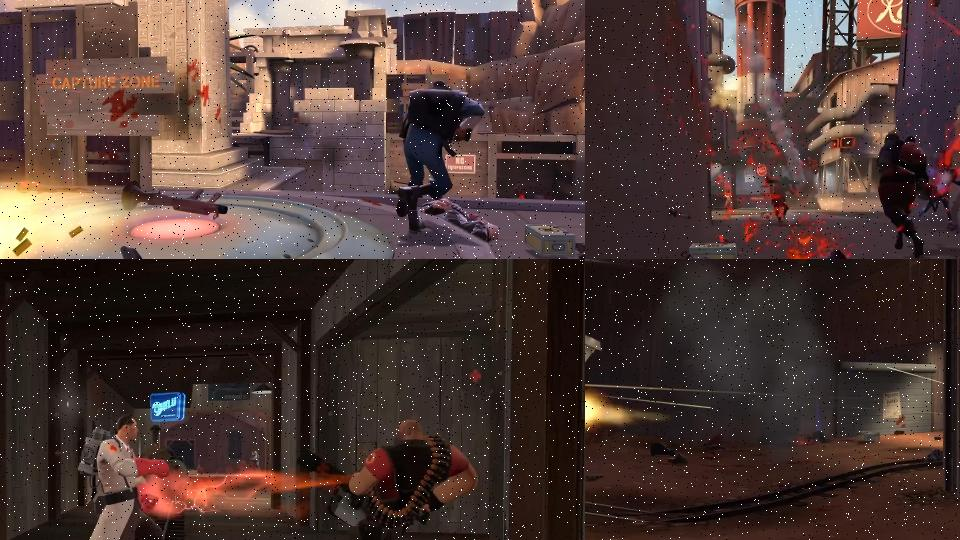Enemy: (295, 416, 481, 540), (62, 411, 199, 540), (395, 79, 486, 235), (876, 128, 929, 259), (418, 198, 500, 242), (924, 159, 960, 232), (766, 175, 801, 223), (723, 189, 734, 210)
